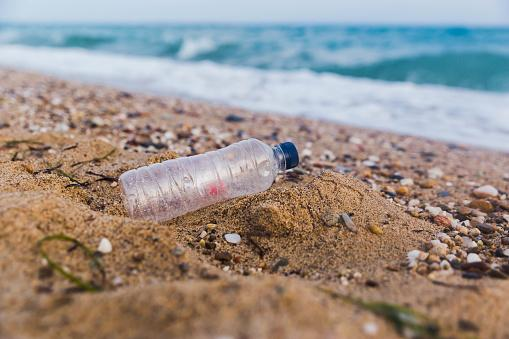bottle: (113, 121, 303, 224)
